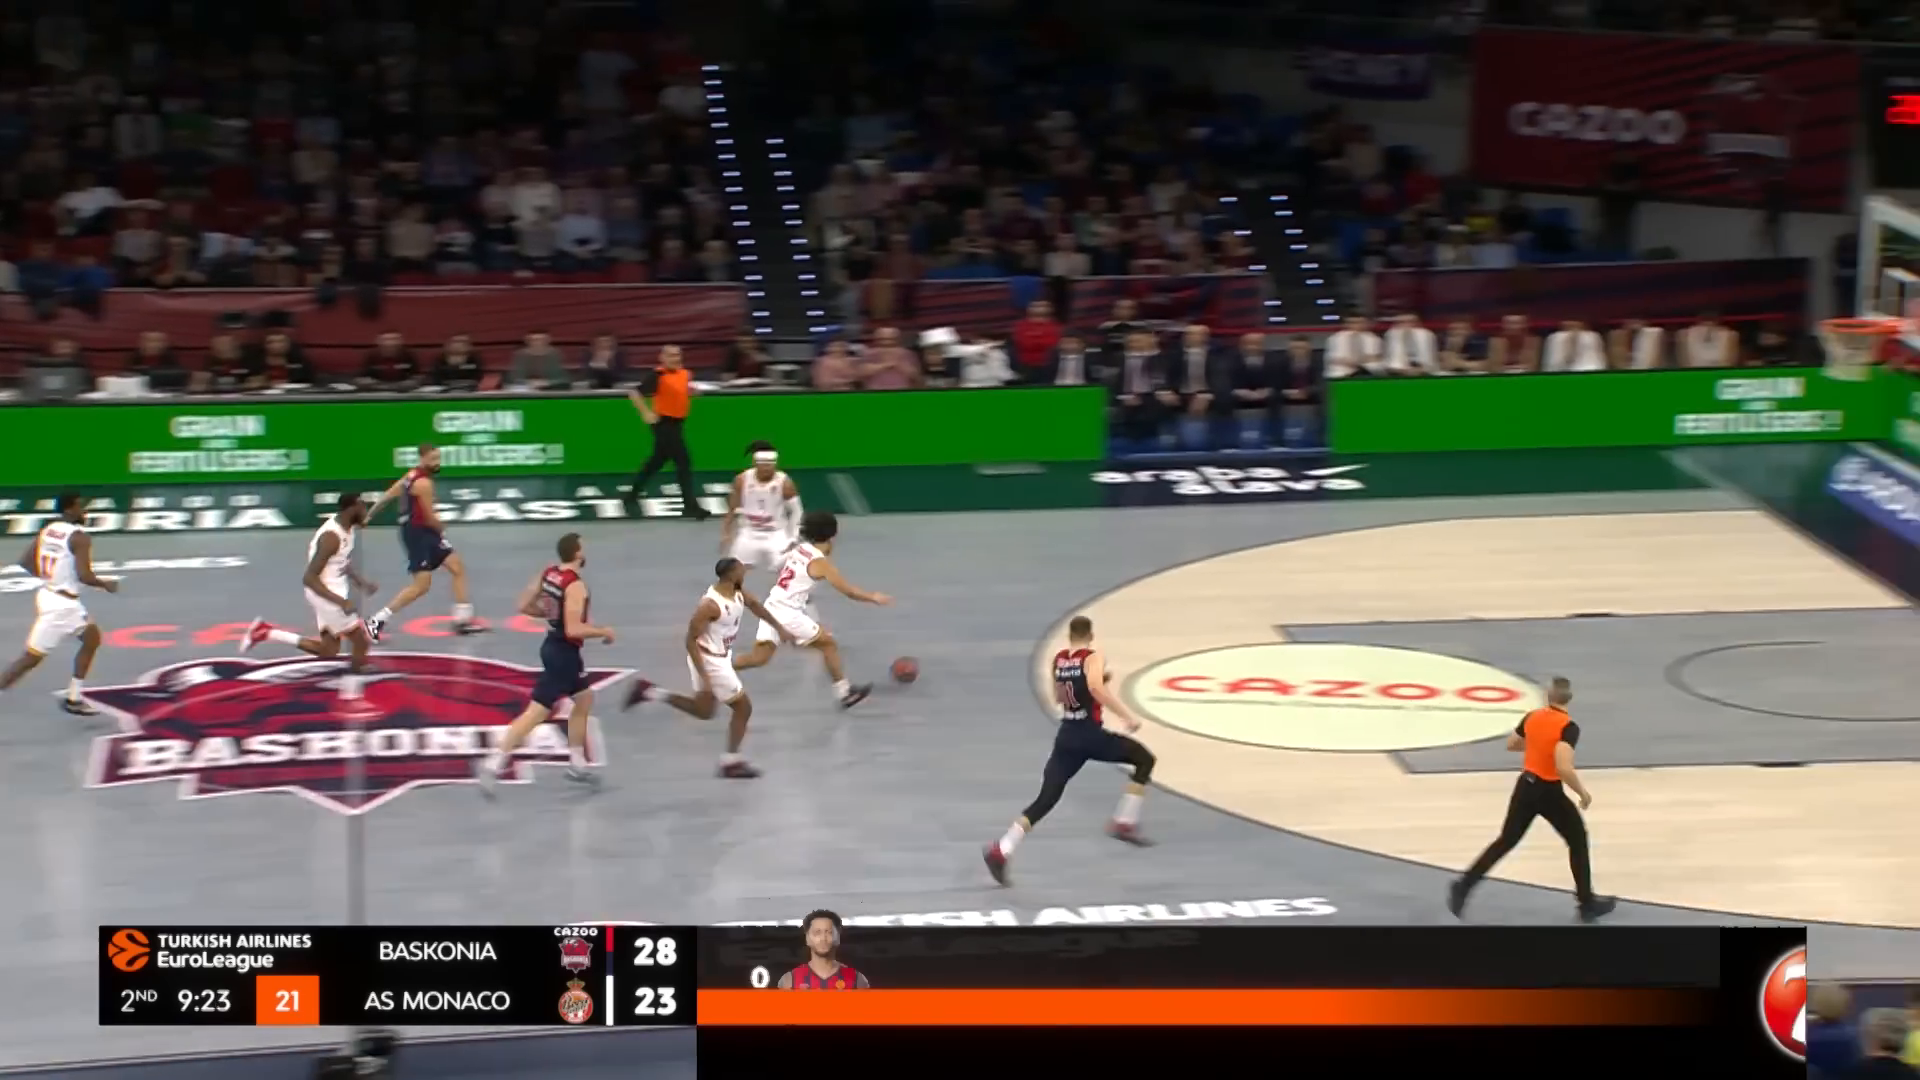ball: (887, 651, 924, 687)
net: (1815, 315, 1888, 386)
